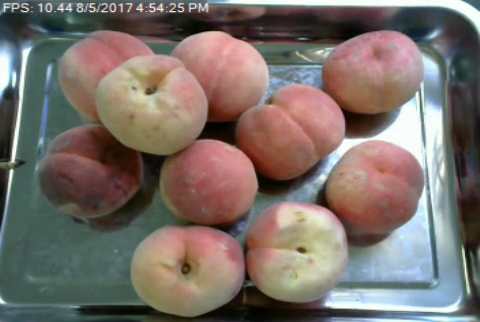Peach: (98, 54, 204, 156), (129, 224, 244, 318), (244, 202, 349, 302), (235, 86, 344, 181), (52, 27, 153, 129), (324, 139, 424, 236), (39, 123, 142, 217), (321, 27, 422, 116), (174, 29, 271, 121), (159, 139, 258, 225)
